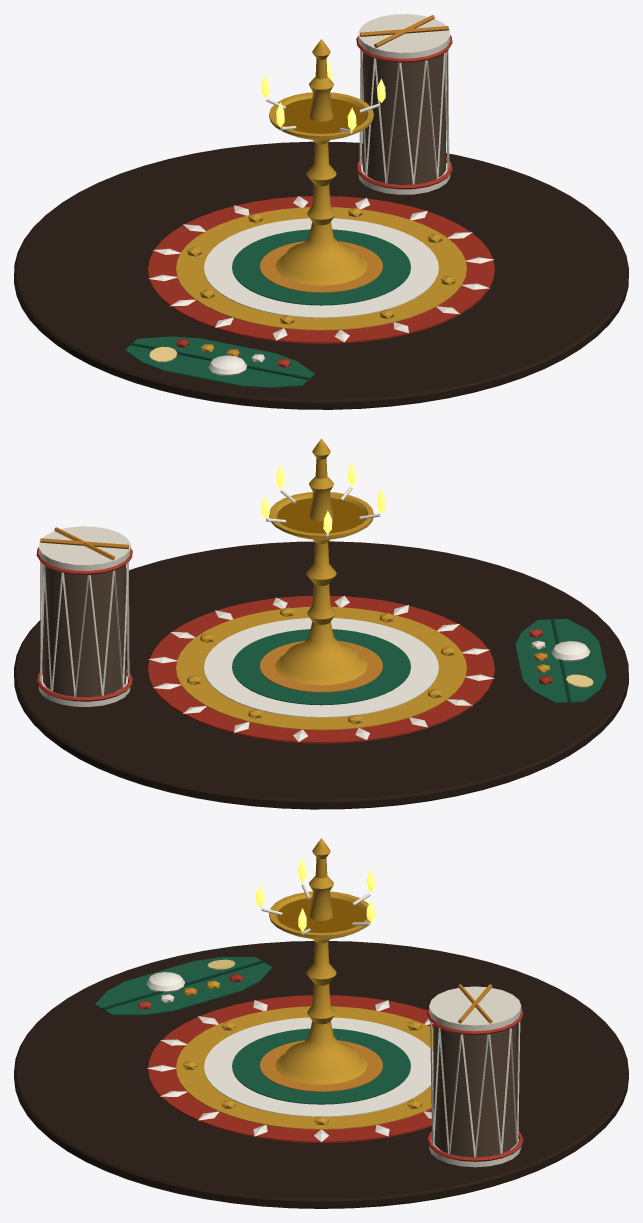
Rendered from lamp.glb.
3 views of the same model, one above another, from view 1: azimuth 30°, elevation 25°; view 2: azimuth 150°, elevation 25°; view 3: azimuth 270°, elevation 25° (orthographic).
Visible parts, largest first — view 1: Plinth, Pookalam, Chenda, Lamp, Sadhya; view 2: Plinth, Pookalam, Chenda, Lamp, Sadhya; view 3: Plinth, Pookalam, Chenda, Lamp, Sadhya.
Part boxes in pixels (x1,y1,x2,y2): Plinth: [14, 141, 628, 409]; Pookalam: [148, 196, 494, 343]; Chenda: [356, 14, 452, 194]; Lamp: [266, 39, 380, 285]; Sadhya: [125, 336, 314, 387]; Plinth: [14, 541, 628, 809]; Pookalam: [148, 595, 494, 743]; Chenda: [36, 526, 132, 706]; Lamp: [266, 438, 380, 685]; Sadhya: [515, 618, 606, 703]; Plinth: [14, 941, 628, 1208]; Pookalam: [147, 995, 433, 1142]; Chenda: [427, 984, 523, 1167]; Lamp: [261, 838, 370, 1084]; Sadhya: [95, 957, 272, 1015].
Size of the model in its own units: 2.2 by 0.955 by 2.2.
